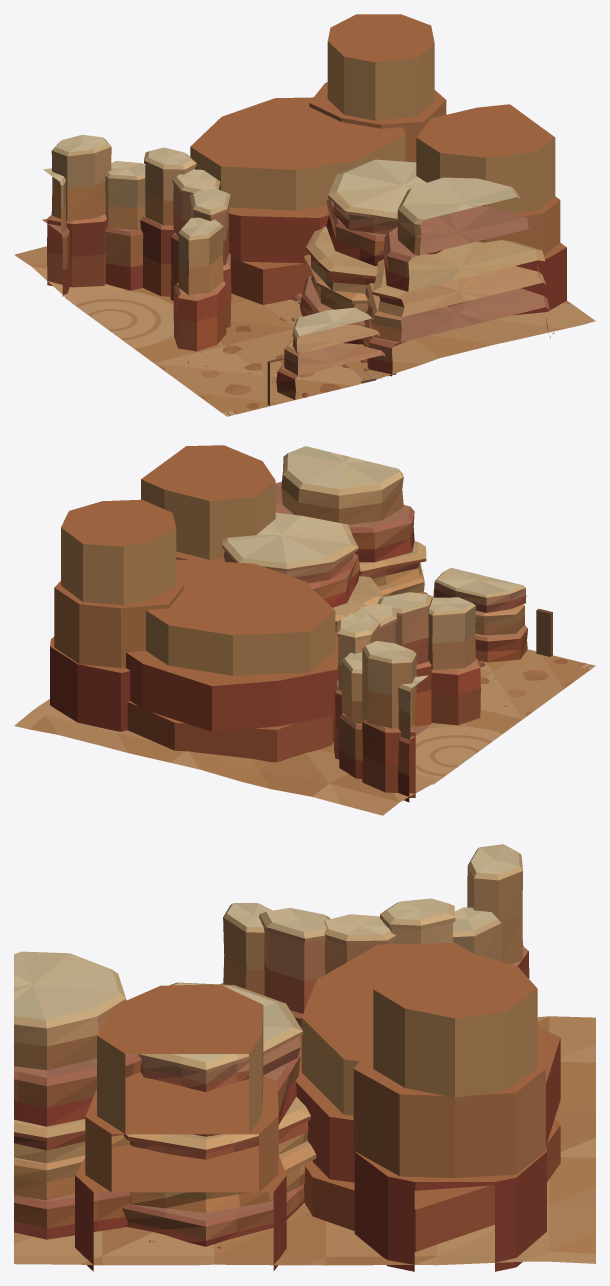
3 views of the same model, one above another, from view 1: azimuth 30°, elevation 25°; view 2: azimuth 150°, elevation 25°; view 3: azimuth 270°, elevation 25° (orthographic). The views are drawn at different scales.
Visible parts, largest first — view 1: baked; view 2: baked; view 3: baked.
Part boxes in pixels (bbox=[...]): baked: bbox=[14, 14, 595, 416]; baked: bbox=[14, 445, 595, 815]; baked: bbox=[14, 844, 595, 1271].
Size of the model in its own units: 62.5 by 29.81 by 62.5.
